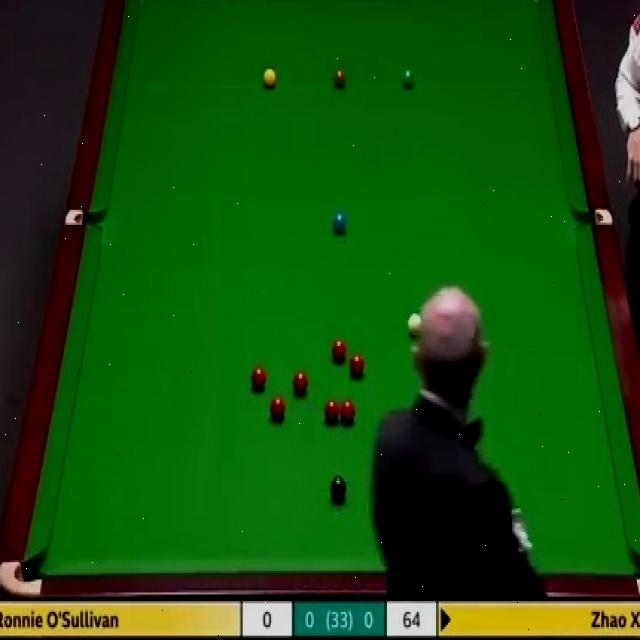black-ball: (330, 474, 347, 505)
blue-ball: (332, 210, 348, 233)
brown-ball: (332, 66, 347, 88)
green-ball: (401, 69, 416, 90)
red-ball: (249, 362, 268, 392), (269, 399, 287, 425), (291, 371, 309, 396), (340, 398, 356, 426), (350, 354, 367, 380), (332, 338, 349, 362), (324, 400, 340, 425)
white-ball: (407, 310, 423, 338)
yellow-ball: (261, 66, 276, 88)
